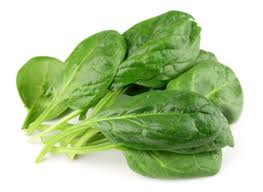spinach: (50, 27, 235, 172)
